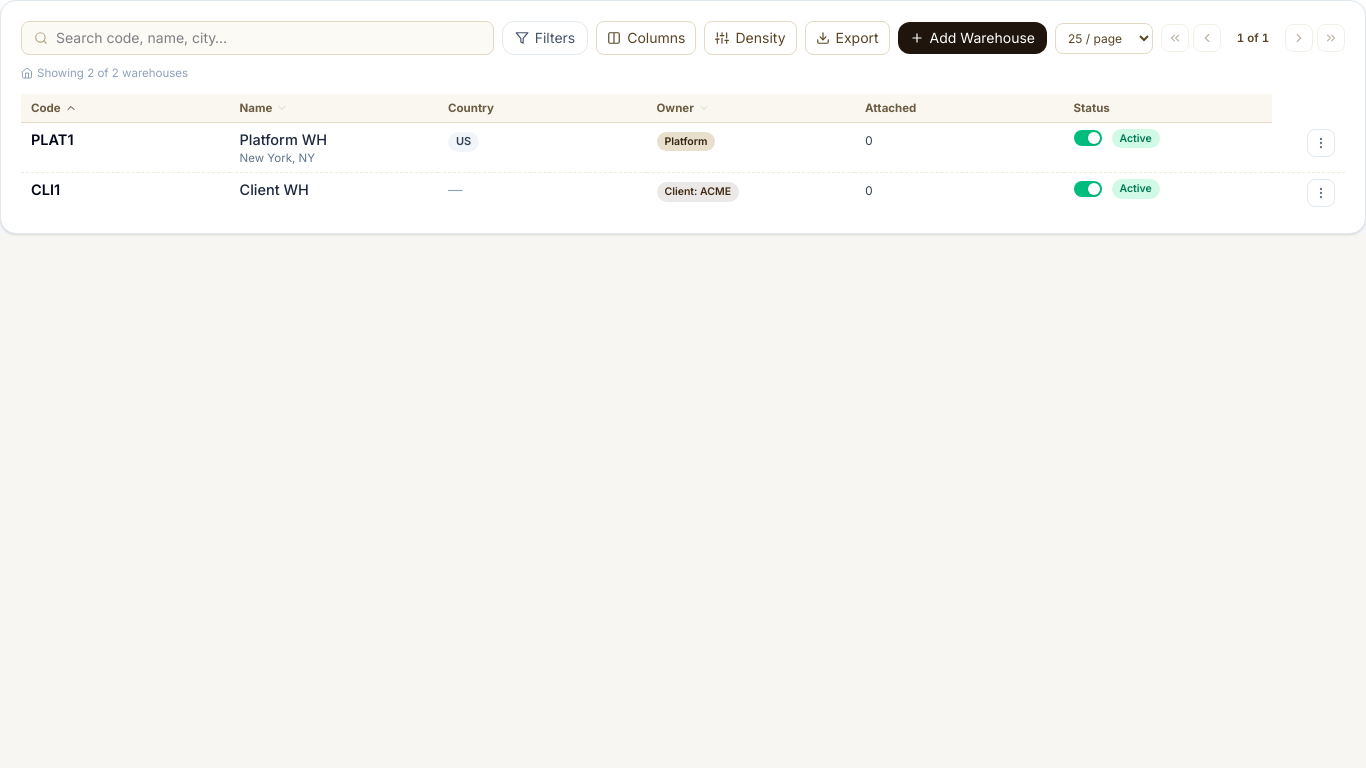
Scenario: WarehouseEditorModal · internals · positive › CORRECTED verify result renders a suggestion panel with a Use suggestion button
The width and height of the screenshot is (1366, 768).
Click the button named "Row actions" in the row of "PLAT1".
click(1321, 143)  # box x1=1307 y1=129 x2=1335 y2=157
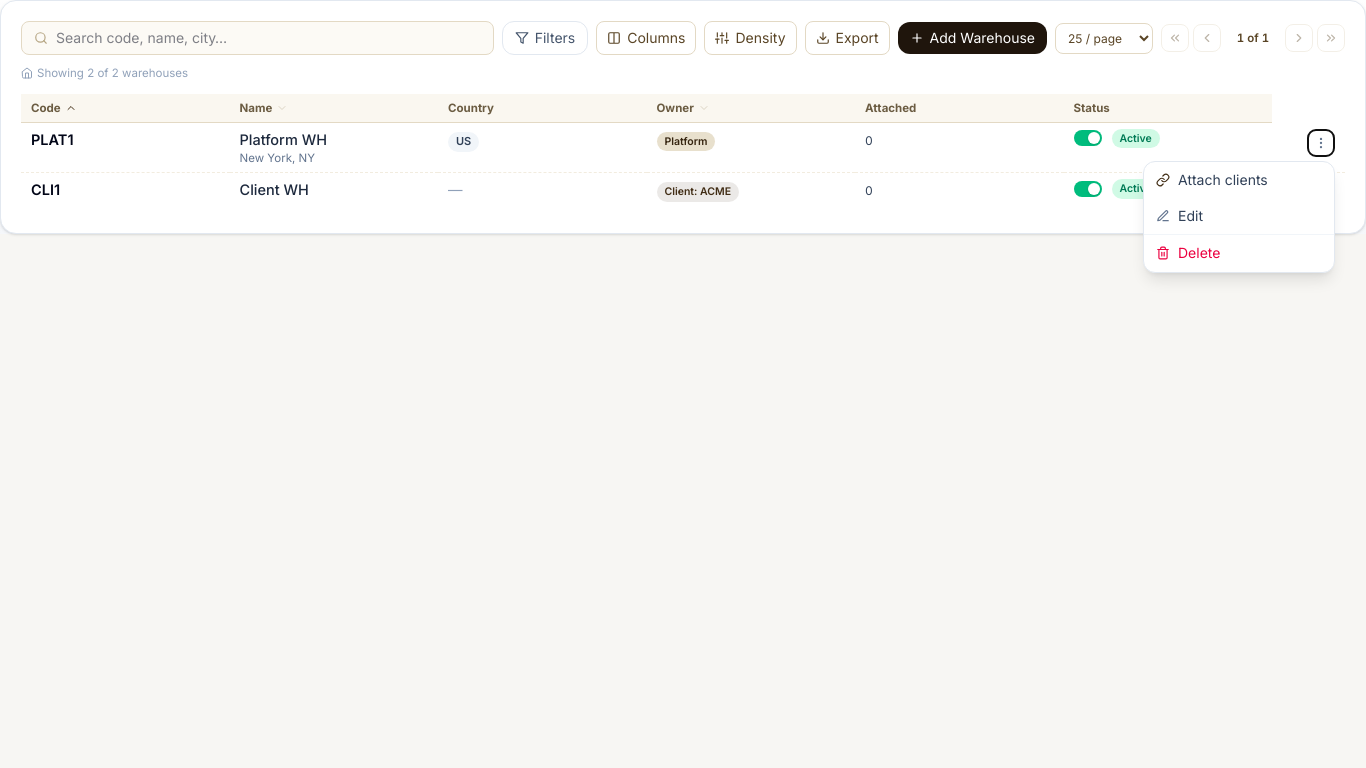
Click the menu item "Edit".
click(1239, 216)  # box x1=1144 y1=198 x2=1334 y2=234
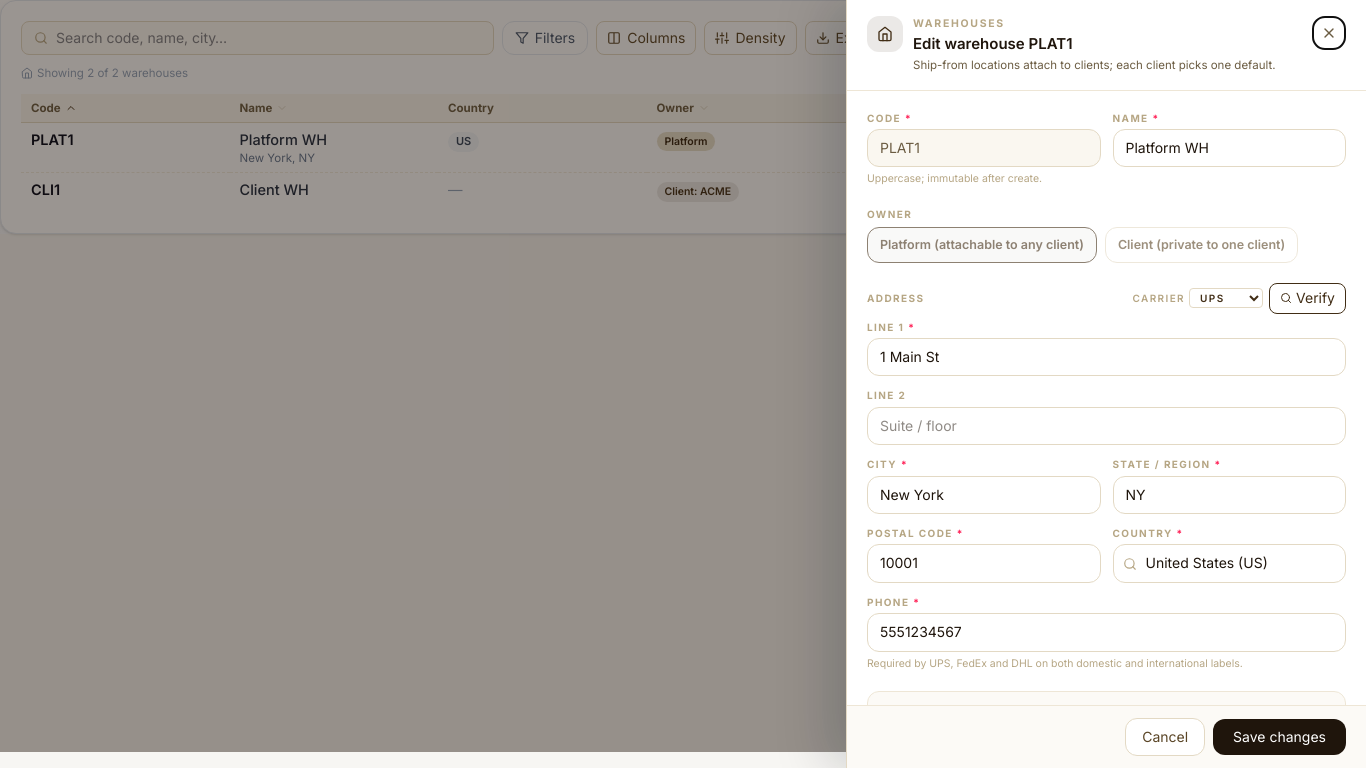
Click the button "Verify".
click(1308, 298)  # box x1=1269 y1=283 x2=1346 y2=314
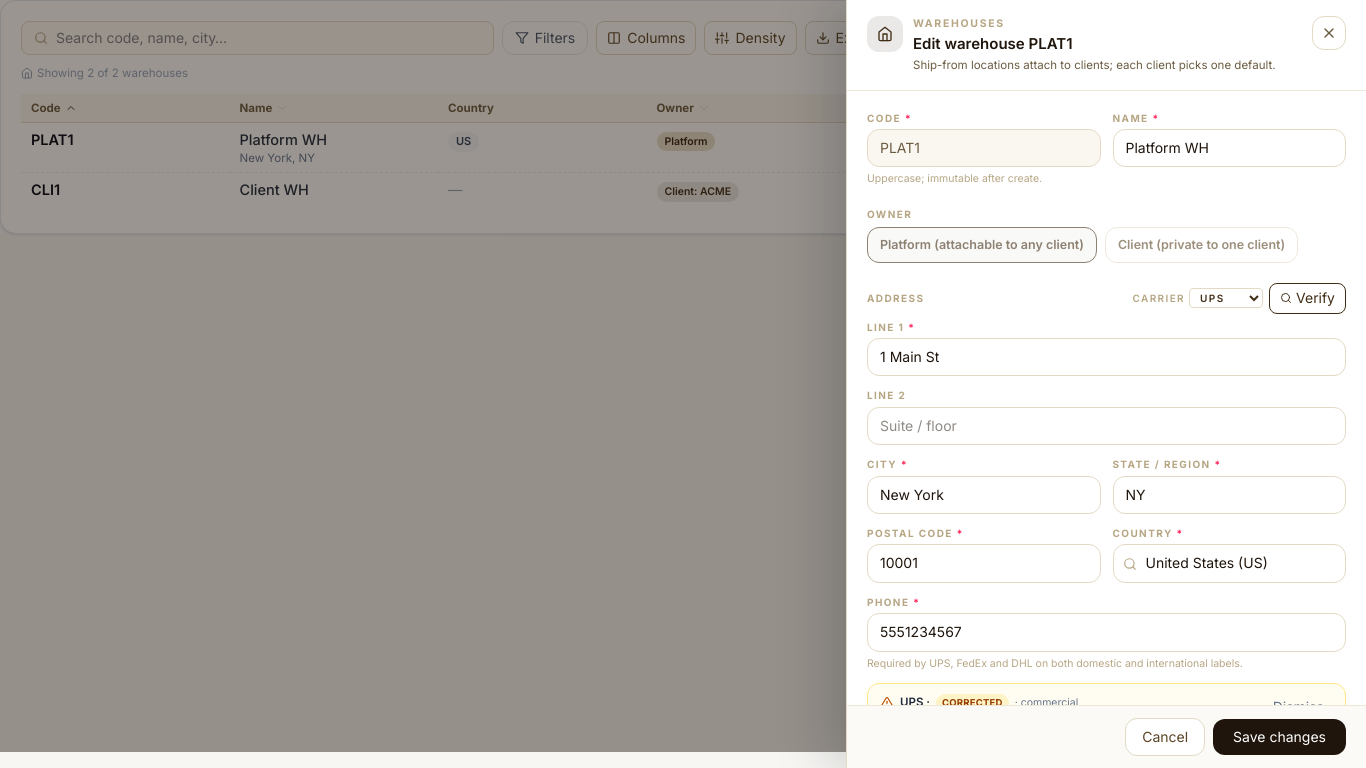
Check: the text "CORRECTED" is shown, box x1=936 y1=694 x2=1009 y2=705
